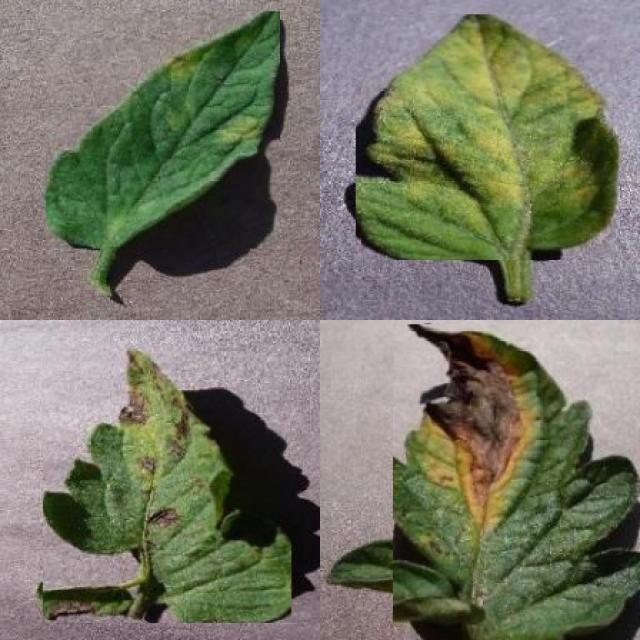Early Blight: (393, 324, 640, 640), (43, 346, 291, 624)
Leaf Mold: (356, 14, 618, 260), (46, 12, 280, 248)
